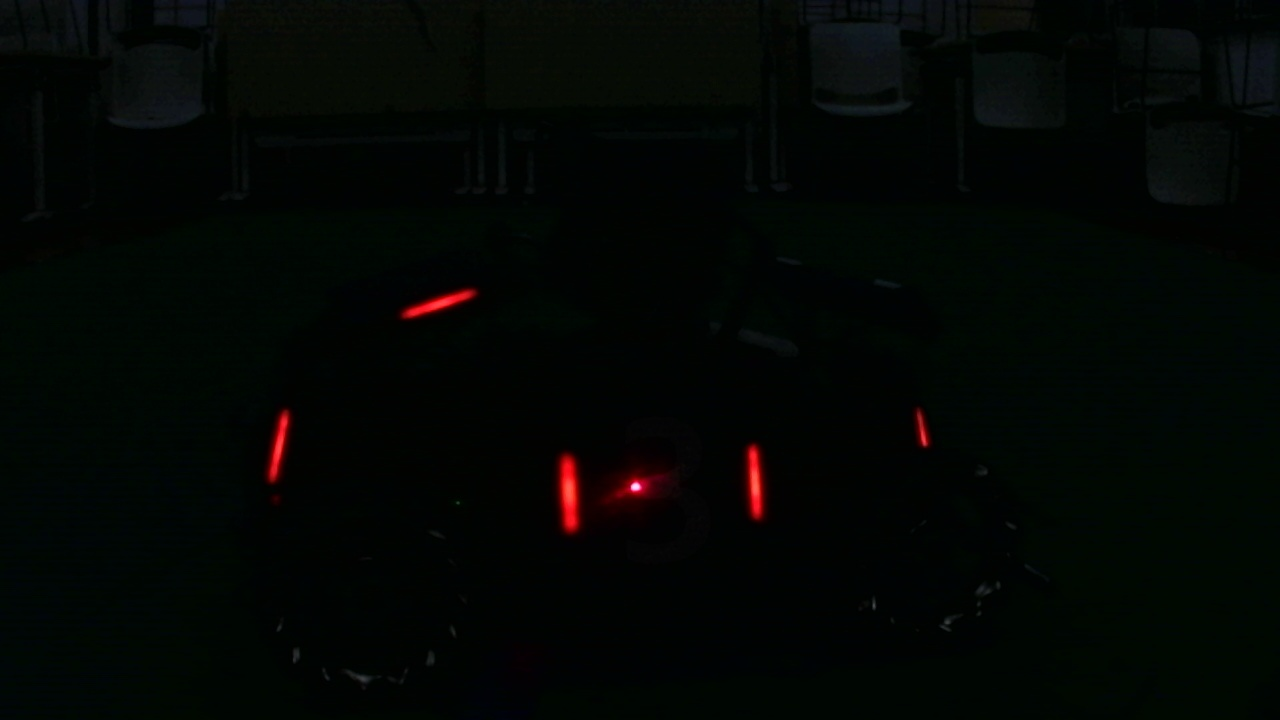lamp: (555, 439, 584, 533), (267, 406, 291, 486), (743, 436, 763, 530), (911, 404, 933, 451)
notpair1: (267, 408, 583, 534)
pair1: (555, 440, 764, 532)
